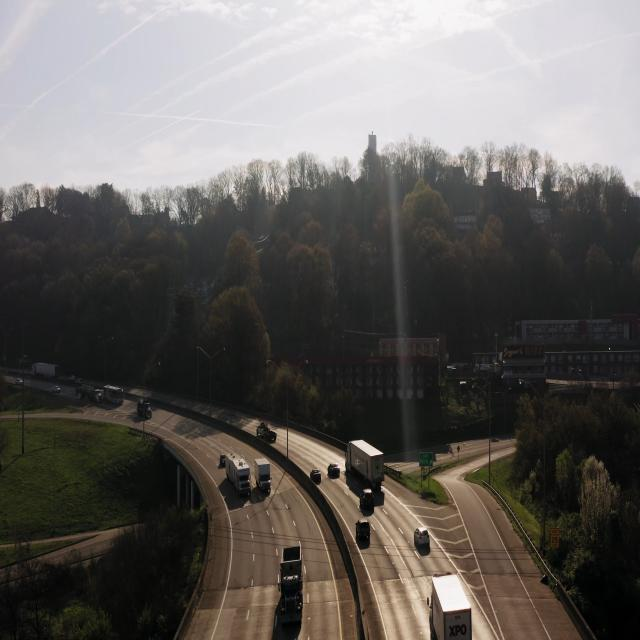Car: (427, 571, 473, 640), (276, 539, 306, 632), (342, 434, 386, 493), (226, 452, 252, 504), (253, 456, 273, 498), (356, 514, 372, 546), (414, 524, 431, 553)
